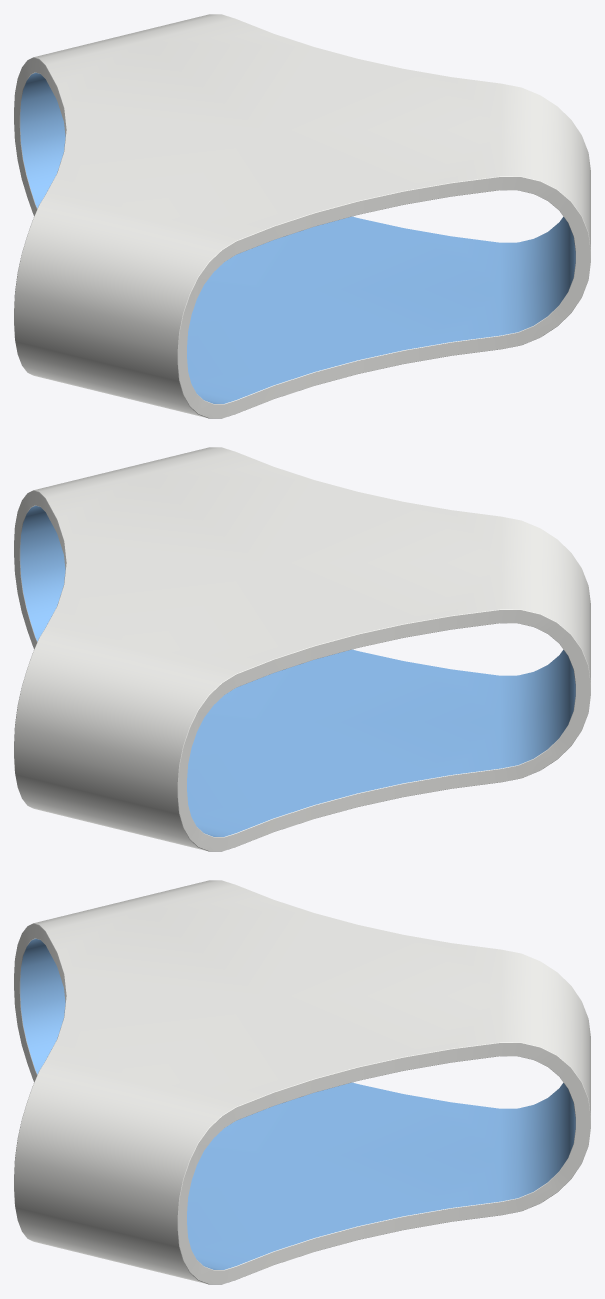
The model's file is pants.fbx.
3 renders of one model, top to bottom at view 1: azimuth 30°, elevation 25°; view 2: azimuth 150°, elevation 25°; view 3: azimuth 270°, elevation 25°, orthographic.
Parts seen in each view (by area): view 1: melia_design_pants_blue; view 2: melia_design_pants_blue; view 3: melia_design_pants_blue.
Boxes of the visible parts, box(x1,y1,x2,y2) form: melia_design_pants_blue: box(14, 14, 590, 418); melia_design_pants_blue: box(14, 447, 590, 851); melia_design_pants_blue: box(14, 880, 590, 1284).
Size of the model in its own units: 174 by 151 by 50.
